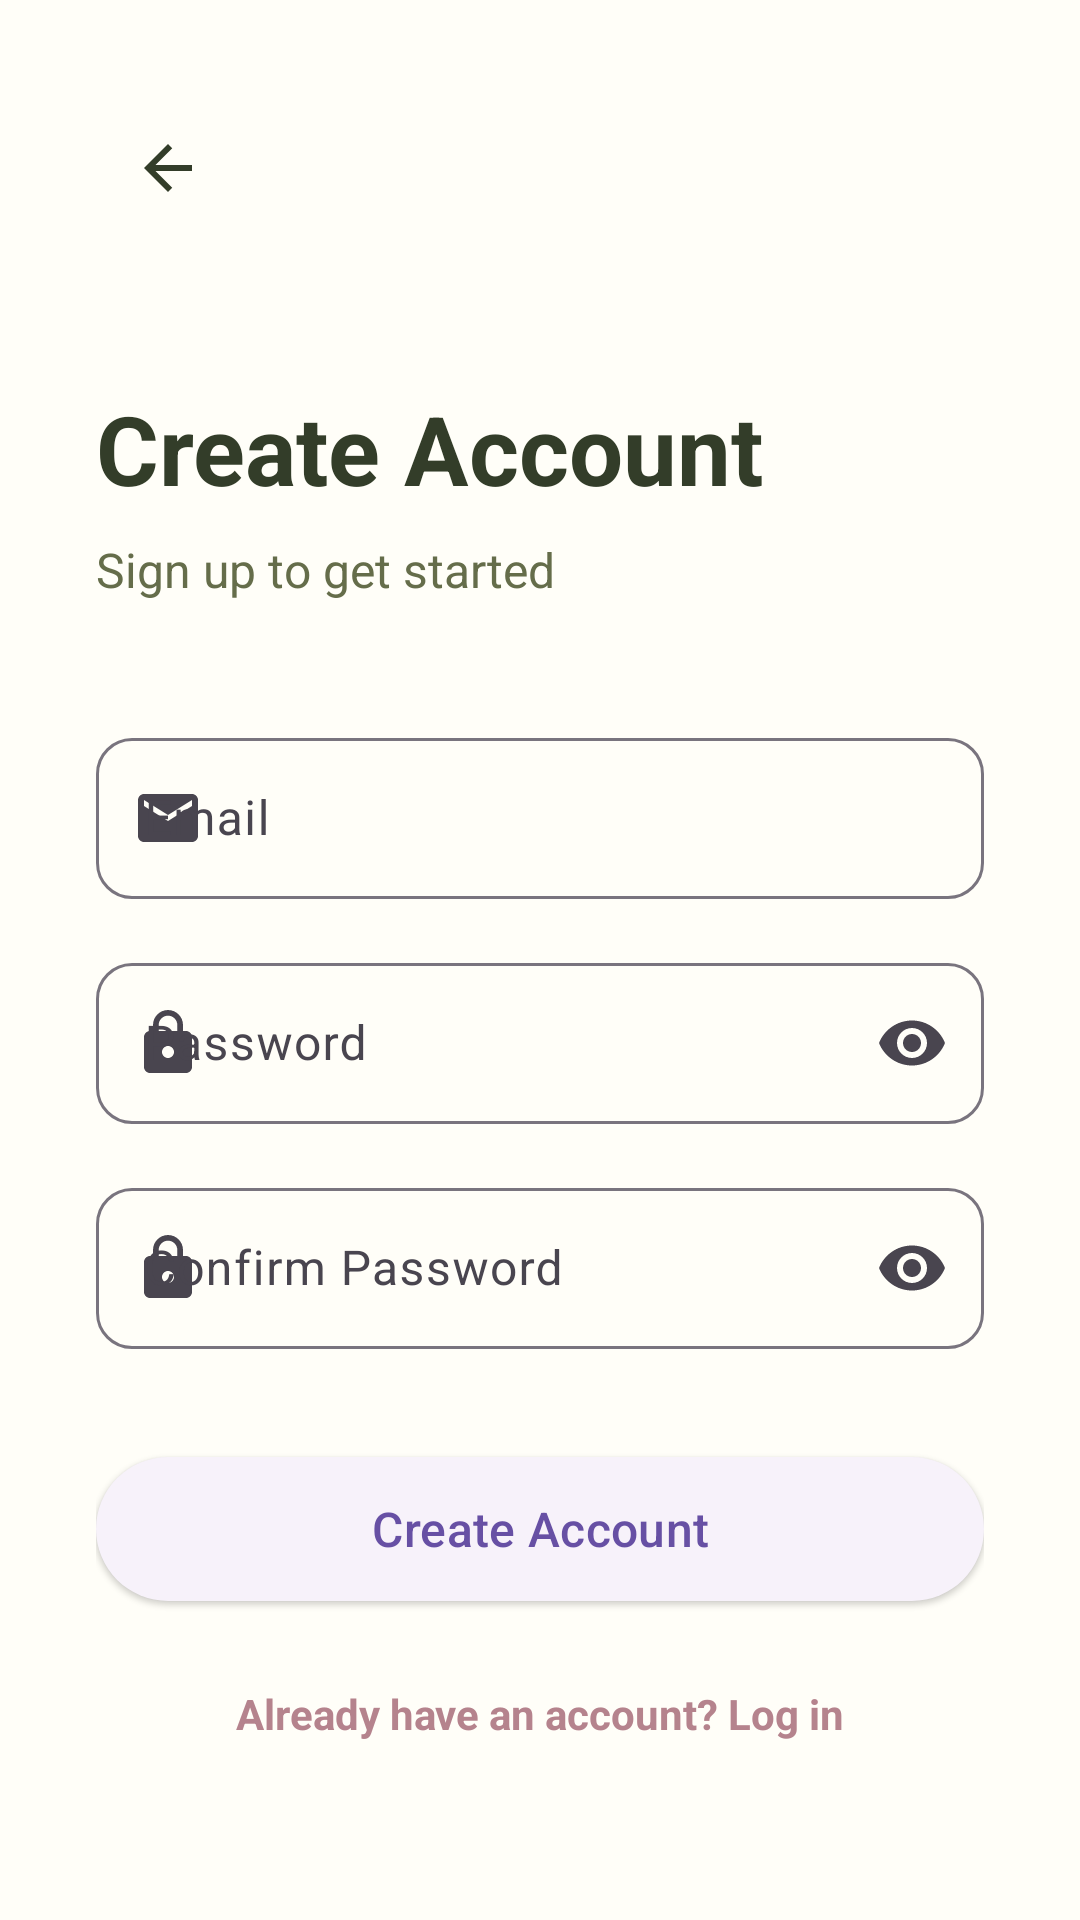

Icon click points for this 1080*1920 phone screenshot, format (x,y):
Go back: (168,168)
